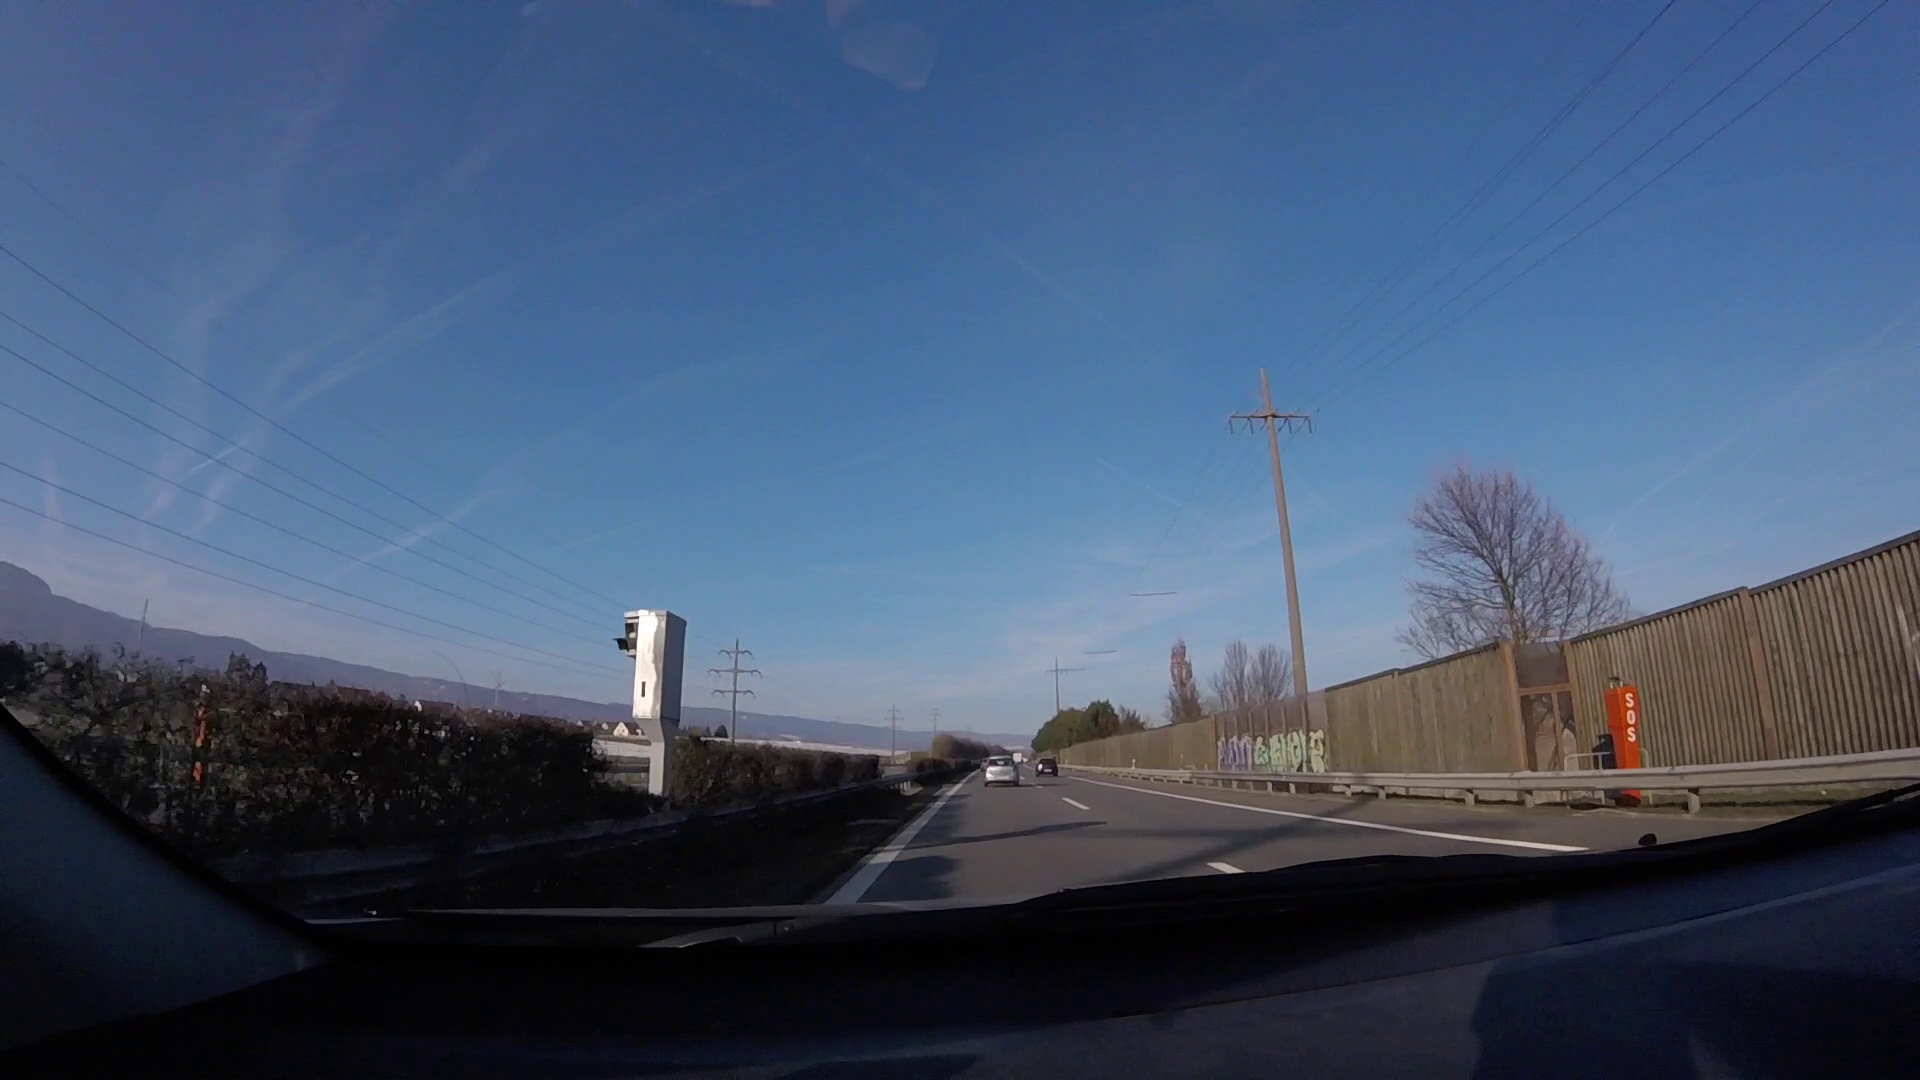radar: (615, 607, 691, 803)
